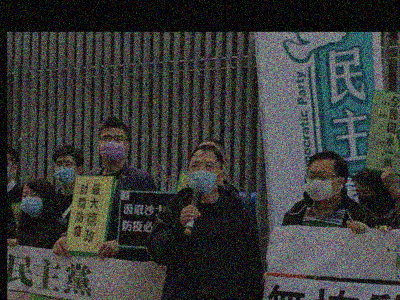with_mask: (187, 158, 220, 196), (307, 166, 339, 200), (99, 130, 127, 163), (53, 157, 77, 184), (355, 185, 378, 212), (22, 189, 42, 218)
